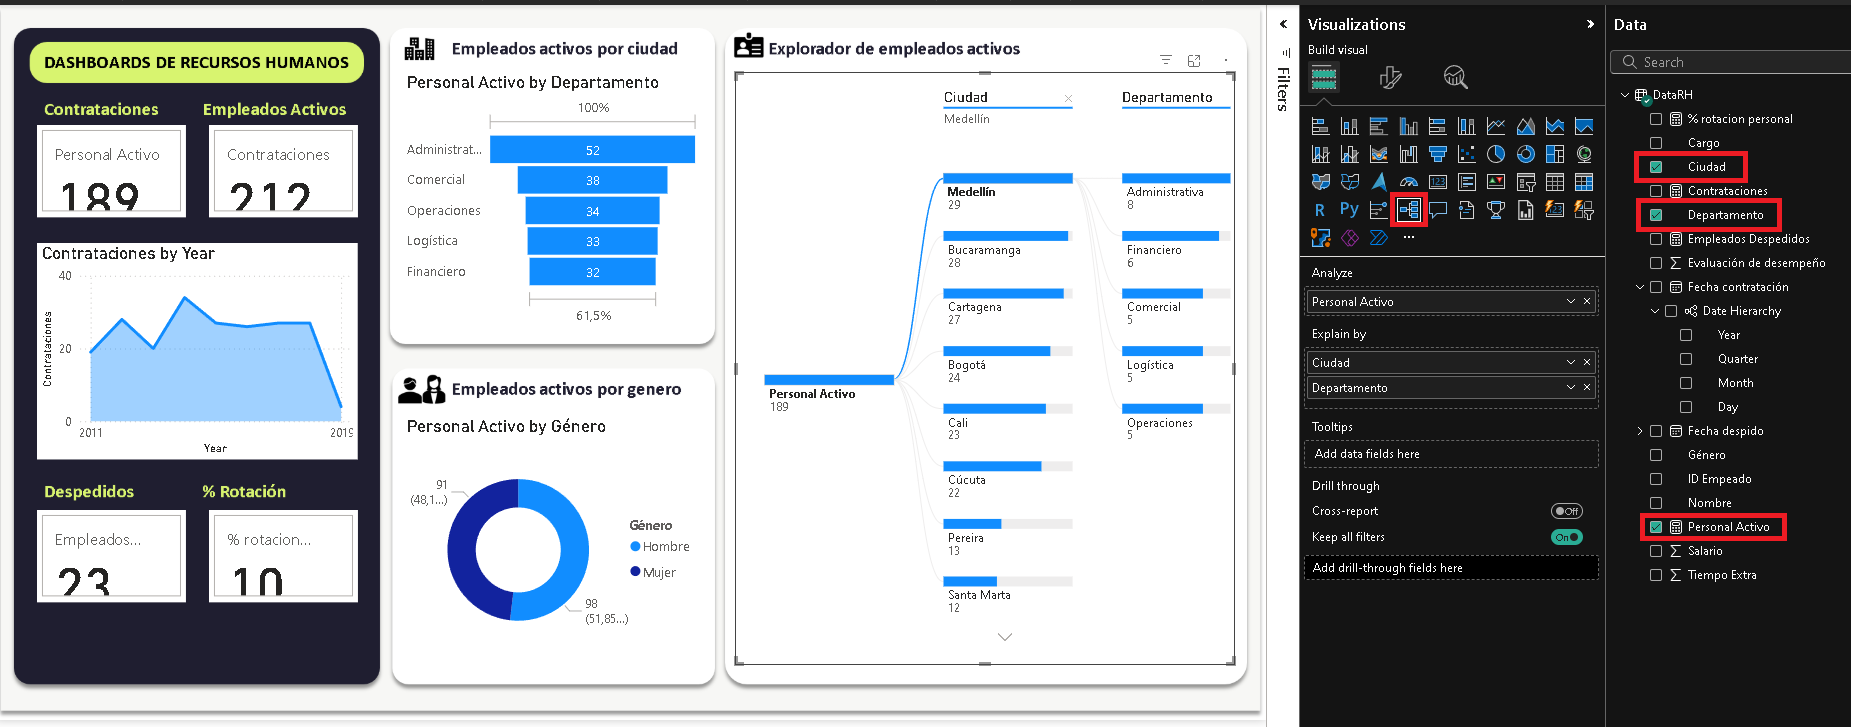

The dashboard page shown, as its layout file describes it:
{"tool":"powerbi","page":{"name":"Page 1","canvas":[1280,720],"ordinal":0},"visuals":[{"type":"cardVisual","fields":{"Data":["DataRH.% rotacion personal"]},"box":[192.2,490,187.8,111.1],"z":0},{"type":"cardVisual","fields":{"Data":["DataRH.Contrataciones"]},"box":[215.6,106.7,150,106.7],"z":1000},{"type":"cardVisual","fields":{"Data":["DataRH.Personal Activo"]},"box":[42.2,106.7,150,106.7],"z":2000},{"type":"cardVisual","fields":{"Data":["DataRH.Empleados Despedidos"]},"box":[42.2,490,150,111.1],"z":3000},{"type":"areaChart","title":"Contrataciones por Año","fields":{"Y":["DataRH.Contrataciones"],"Category":["DataRH.Fecha contratación.Variation.Date Hierarchy.Year"]},"box":[26.7,213.3,353.3,243.3],"z":4000},{"type":"funnel","fields":{"Y":["DataRH.Personal Activo"],"Category":["DataRH.Ciudad"]},"box":[406.2,55.4,310.8,280],"z":5000},{"type":"donutChart","fields":{"Y":["DataRH.Personal Activo"],"Category":["DataRH.Género"]},"box":[406.2,400,310.8,276.2],"z":6000},{"type":"decompositionTreeVisual","fields":{"Analyze":["DataRH.Personal Activo"],"ExplainBy":["DataRH.Departamento","DataRH.Cargo"]},"box":[735.6,67.8,513.3,596.7],"z":7000}]}

Visuals, with their boxes on the page's 1280x720 design canvas (x1, y1, x2, y2). These are canvas units, not pixel positions in the 1851x727 screenshot, which may show the page scaled, cropped or inside an application window:
cardVisual - DataRH.% rotacion personal: crop(192, 490, 380, 601)
cardVisual - DataRH.Contrataciones: crop(216, 107, 366, 213)
cardVisual - DataRH.Personal Activo: crop(42, 107, 192, 213)
cardVisual - DataRH.Empleados Despedidos: crop(42, 490, 192, 601)
"Contrataciones por Año" areaChart: crop(27, 213, 380, 457)
funnel - DataRH.Personal Activo x DataRH.Ciudad: crop(406, 55, 717, 335)
donutChart - DataRH.Personal Activo x DataRH.Género: crop(406, 400, 717, 676)
decompositionTreeVisual - DataRH.Personal Activo x DataRH.Departamento: crop(736, 68, 1249, 664)
